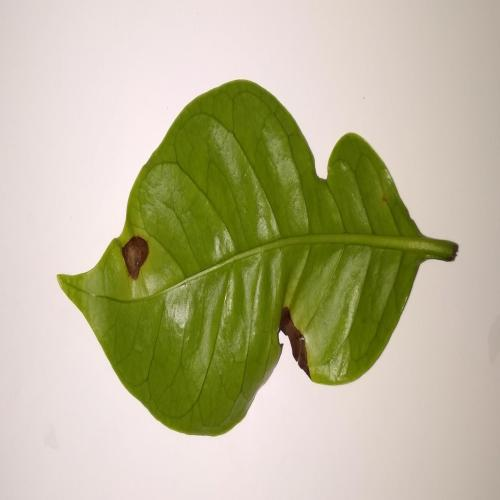miner: (122, 236, 148, 279)
